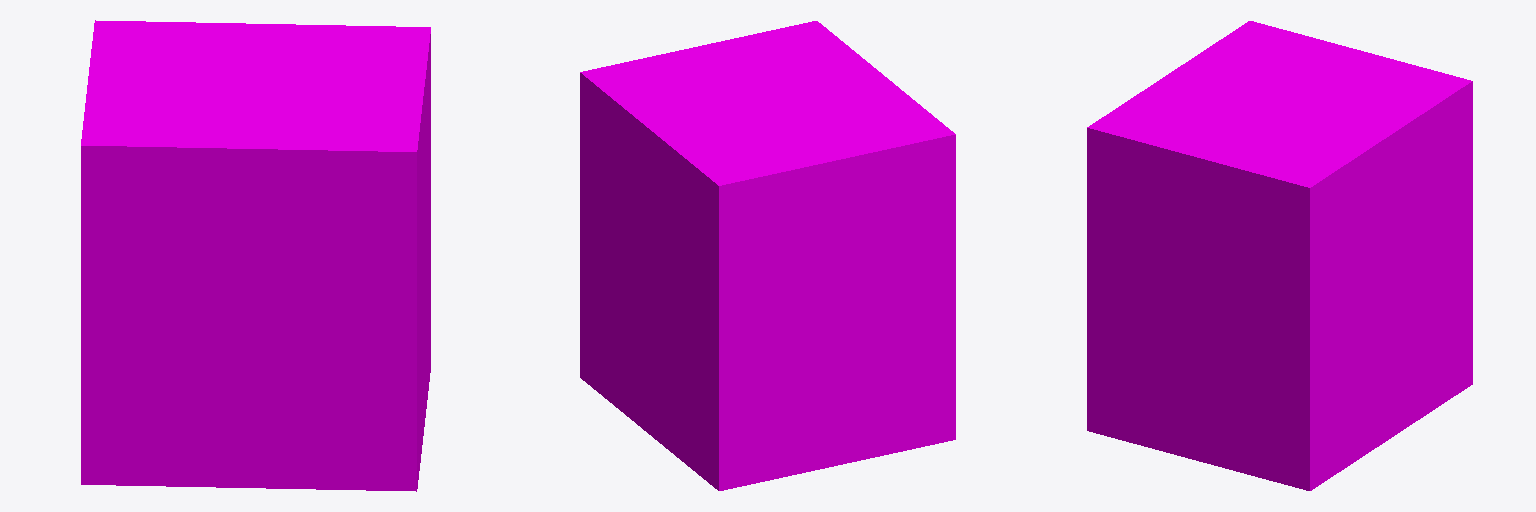
URDF robot description (purpleblock.urdf):
<?xml version="0.0" ?>
<robot name="purpleblock.urdf">
  <link name="baseLink">
    <contact>
      <friction_anchor/>
      <lateral_friction value="1.0"/>
    </contact>
    <inertial>
      <origin rpy="0 0 0" xyz="0 0 0"/>
       <mass value="1.0"/>
       <inertia ixx="1" ixy="0" ixz="0" iyy="1" iyz="0" izz="1"/>
    </inertial>
    <visual>
      <origin rpy="0 0 1.0" xyz="0 0 0.07"/>
      <geometry>
        <box size="0.095 0.108 0.12"/>
      </geometry>
       <material name="purple">
        <color rgba="1 0 1 1"/>
      </material>
    </visual>
    <collision>
      <origin rpy="0 0 1.0" xyz="0 0 0.07"/>
      <geometry>
        <box size="0.095 0.108 0.12"/>
      </geometry>
    </collision>
  </link>
</robot>

--- Facts derived from the render (not from the file) ---
Views: 3 orthographic renders of the robot side by side, from view 1: azimuth 30°, elevation 25°; view 2: azimuth 150°, elevation 25°; view 3: azimuth 270°, elevation 25°.
Robot: purpleblock.urdf — 1 links, 0 joints (none); root link baseLink; default pose: every joint at zero.
Visible links, largest first — view 1: baseLink; view 2: baseLink; view 3: baseLink.
Link boxes in pixels (box(x1,y1,x2,y2)): baseLink: box(81, 20, 430, 491); baseLink: box(580, 21, 955, 490); baseLink: box(1087, 21, 1472, 490).
Size in the robot's own frame: 0.1422 by 0.1383 by 0.12 metres.
Geometry: primitives only (box / cylinder / sphere), no mesh files.